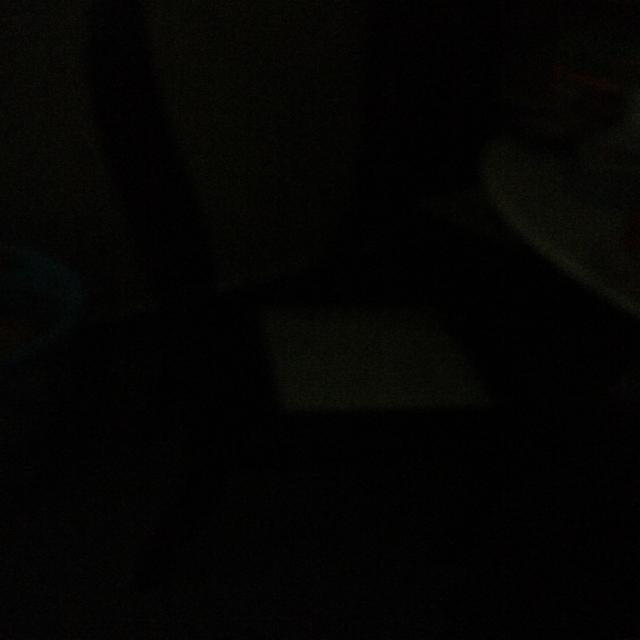Table: (432, 46, 640, 418)
chair: (71, 0, 484, 568)
